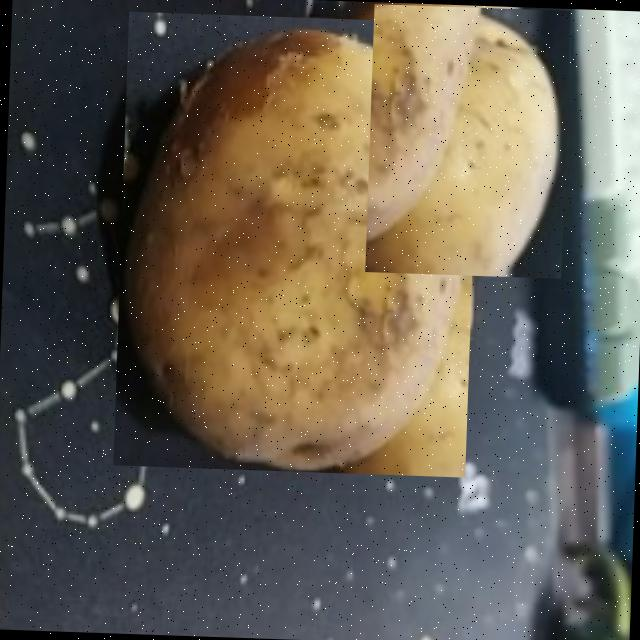Damaged potato: (112, 11, 480, 477)
Potato: (364, 3, 569, 278)
